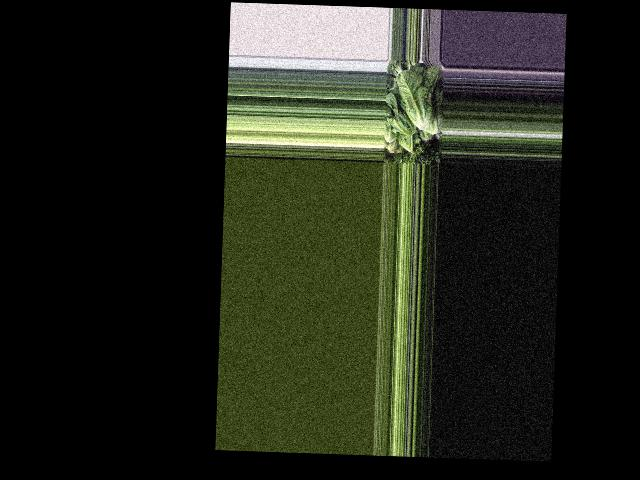lettuce: (386, 90, 416, 137)
